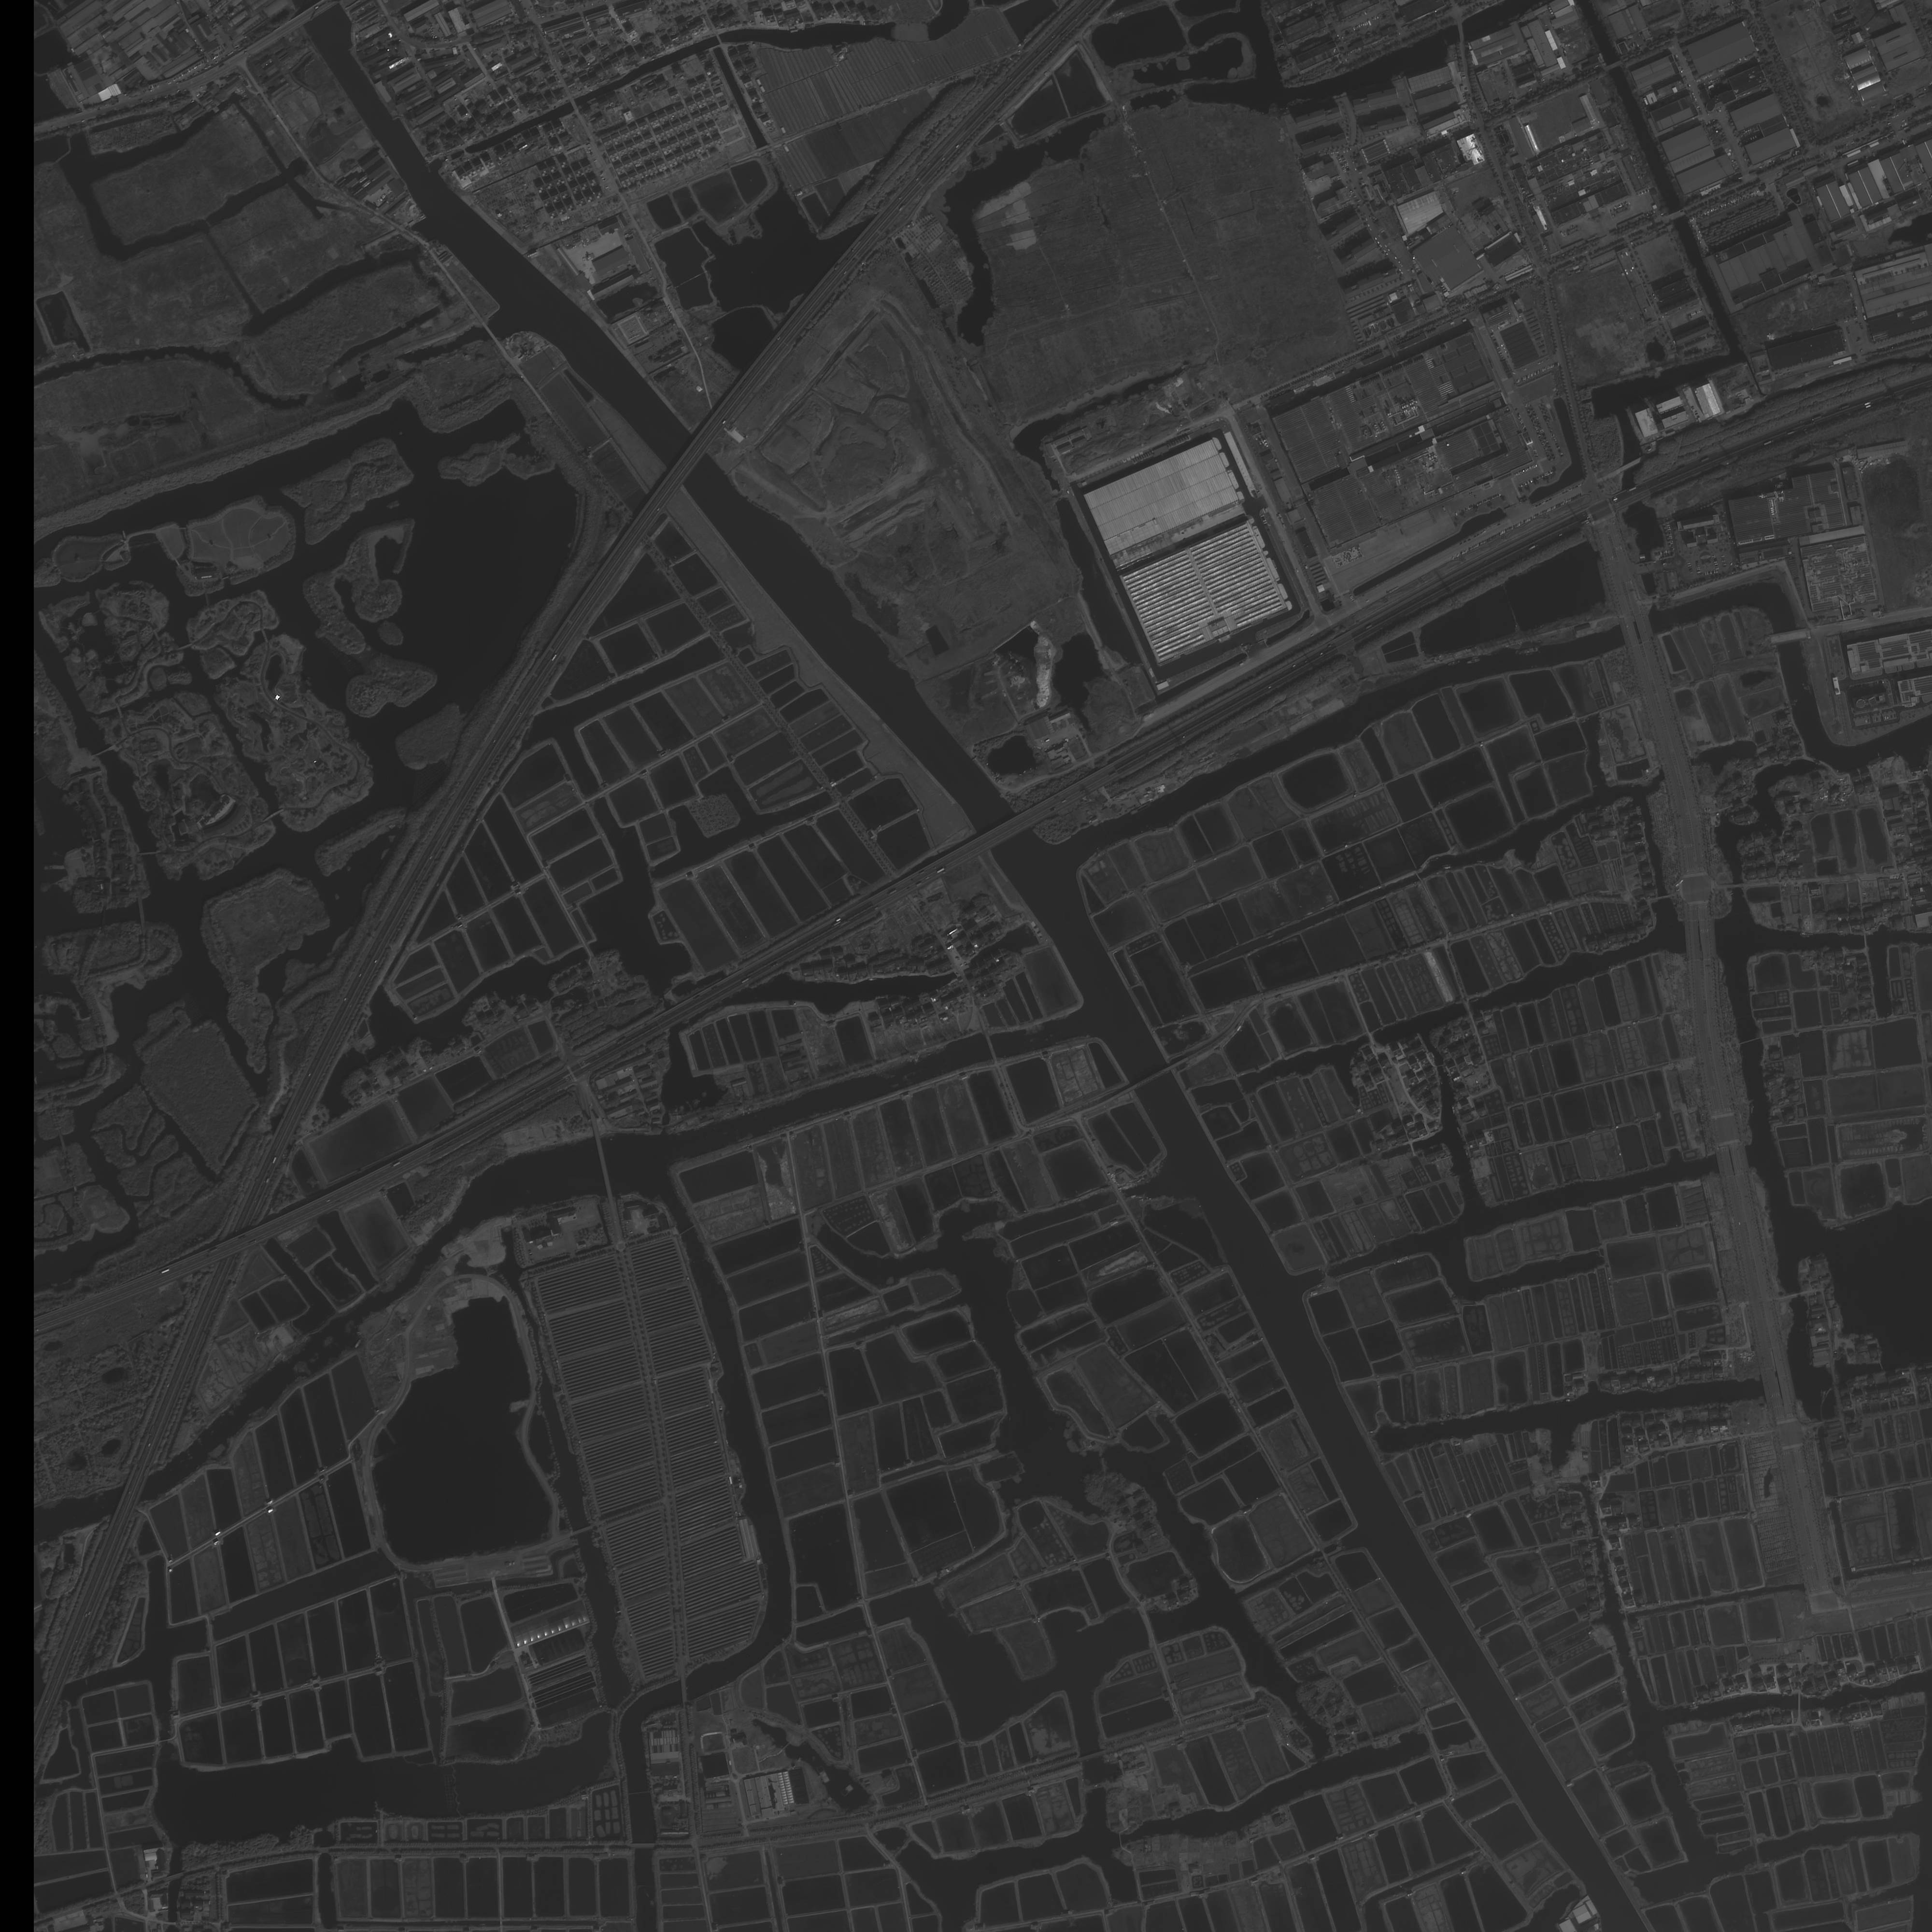bridge: (978, 810, 1037, 851), (667, 435, 709, 485), (1127, 1060, 1180, 1093), (593, 1129, 616, 1203), (308, 1185, 354, 1221), (115, 1474, 147, 1514), (1684, 920, 1718, 957), (1716, 1143, 1750, 1178), (1760, 1373, 1783, 1408), (297, 2, 333, 25), (662, 1001, 690, 1030), (1778, 1369, 1799, 1405), (1619, 483, 1647, 508), (1619, 621, 1640, 648), (1617, 456, 1645, 474), (1637, 617, 1656, 642), (1805, 1578, 1833, 1592), (984, 1028, 996, 1060), (1079, 1750, 1104, 1764), (632, 1842, 658, 1852), (679, 1677, 690, 1704), (1456, 21, 1467, 44), (1668, 209, 1688, 219), (1606, 60, 1624, 71), (170, 1872, 186, 1882), (1729, 881, 1746, 890), (570, 99, 580, 111), (1656, 893, 1670, 901), (715, 34, 724, 44)
